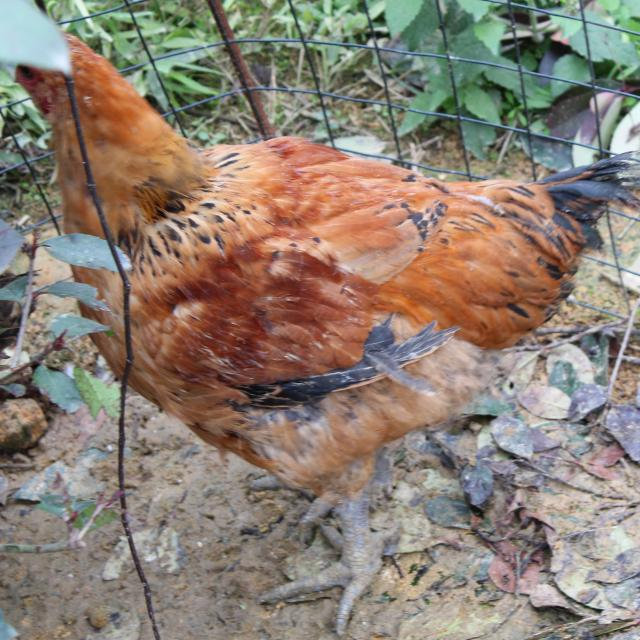hen: (13, 54, 116, 247), (72, 258, 143, 381)
